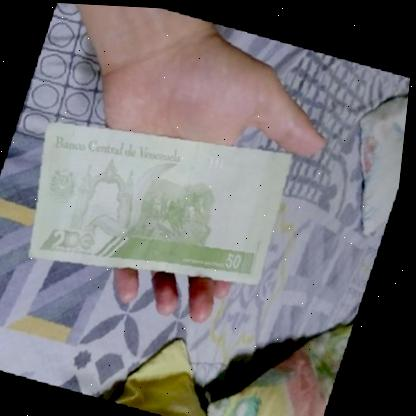fifty-back-vef: (17, 105, 299, 298)
